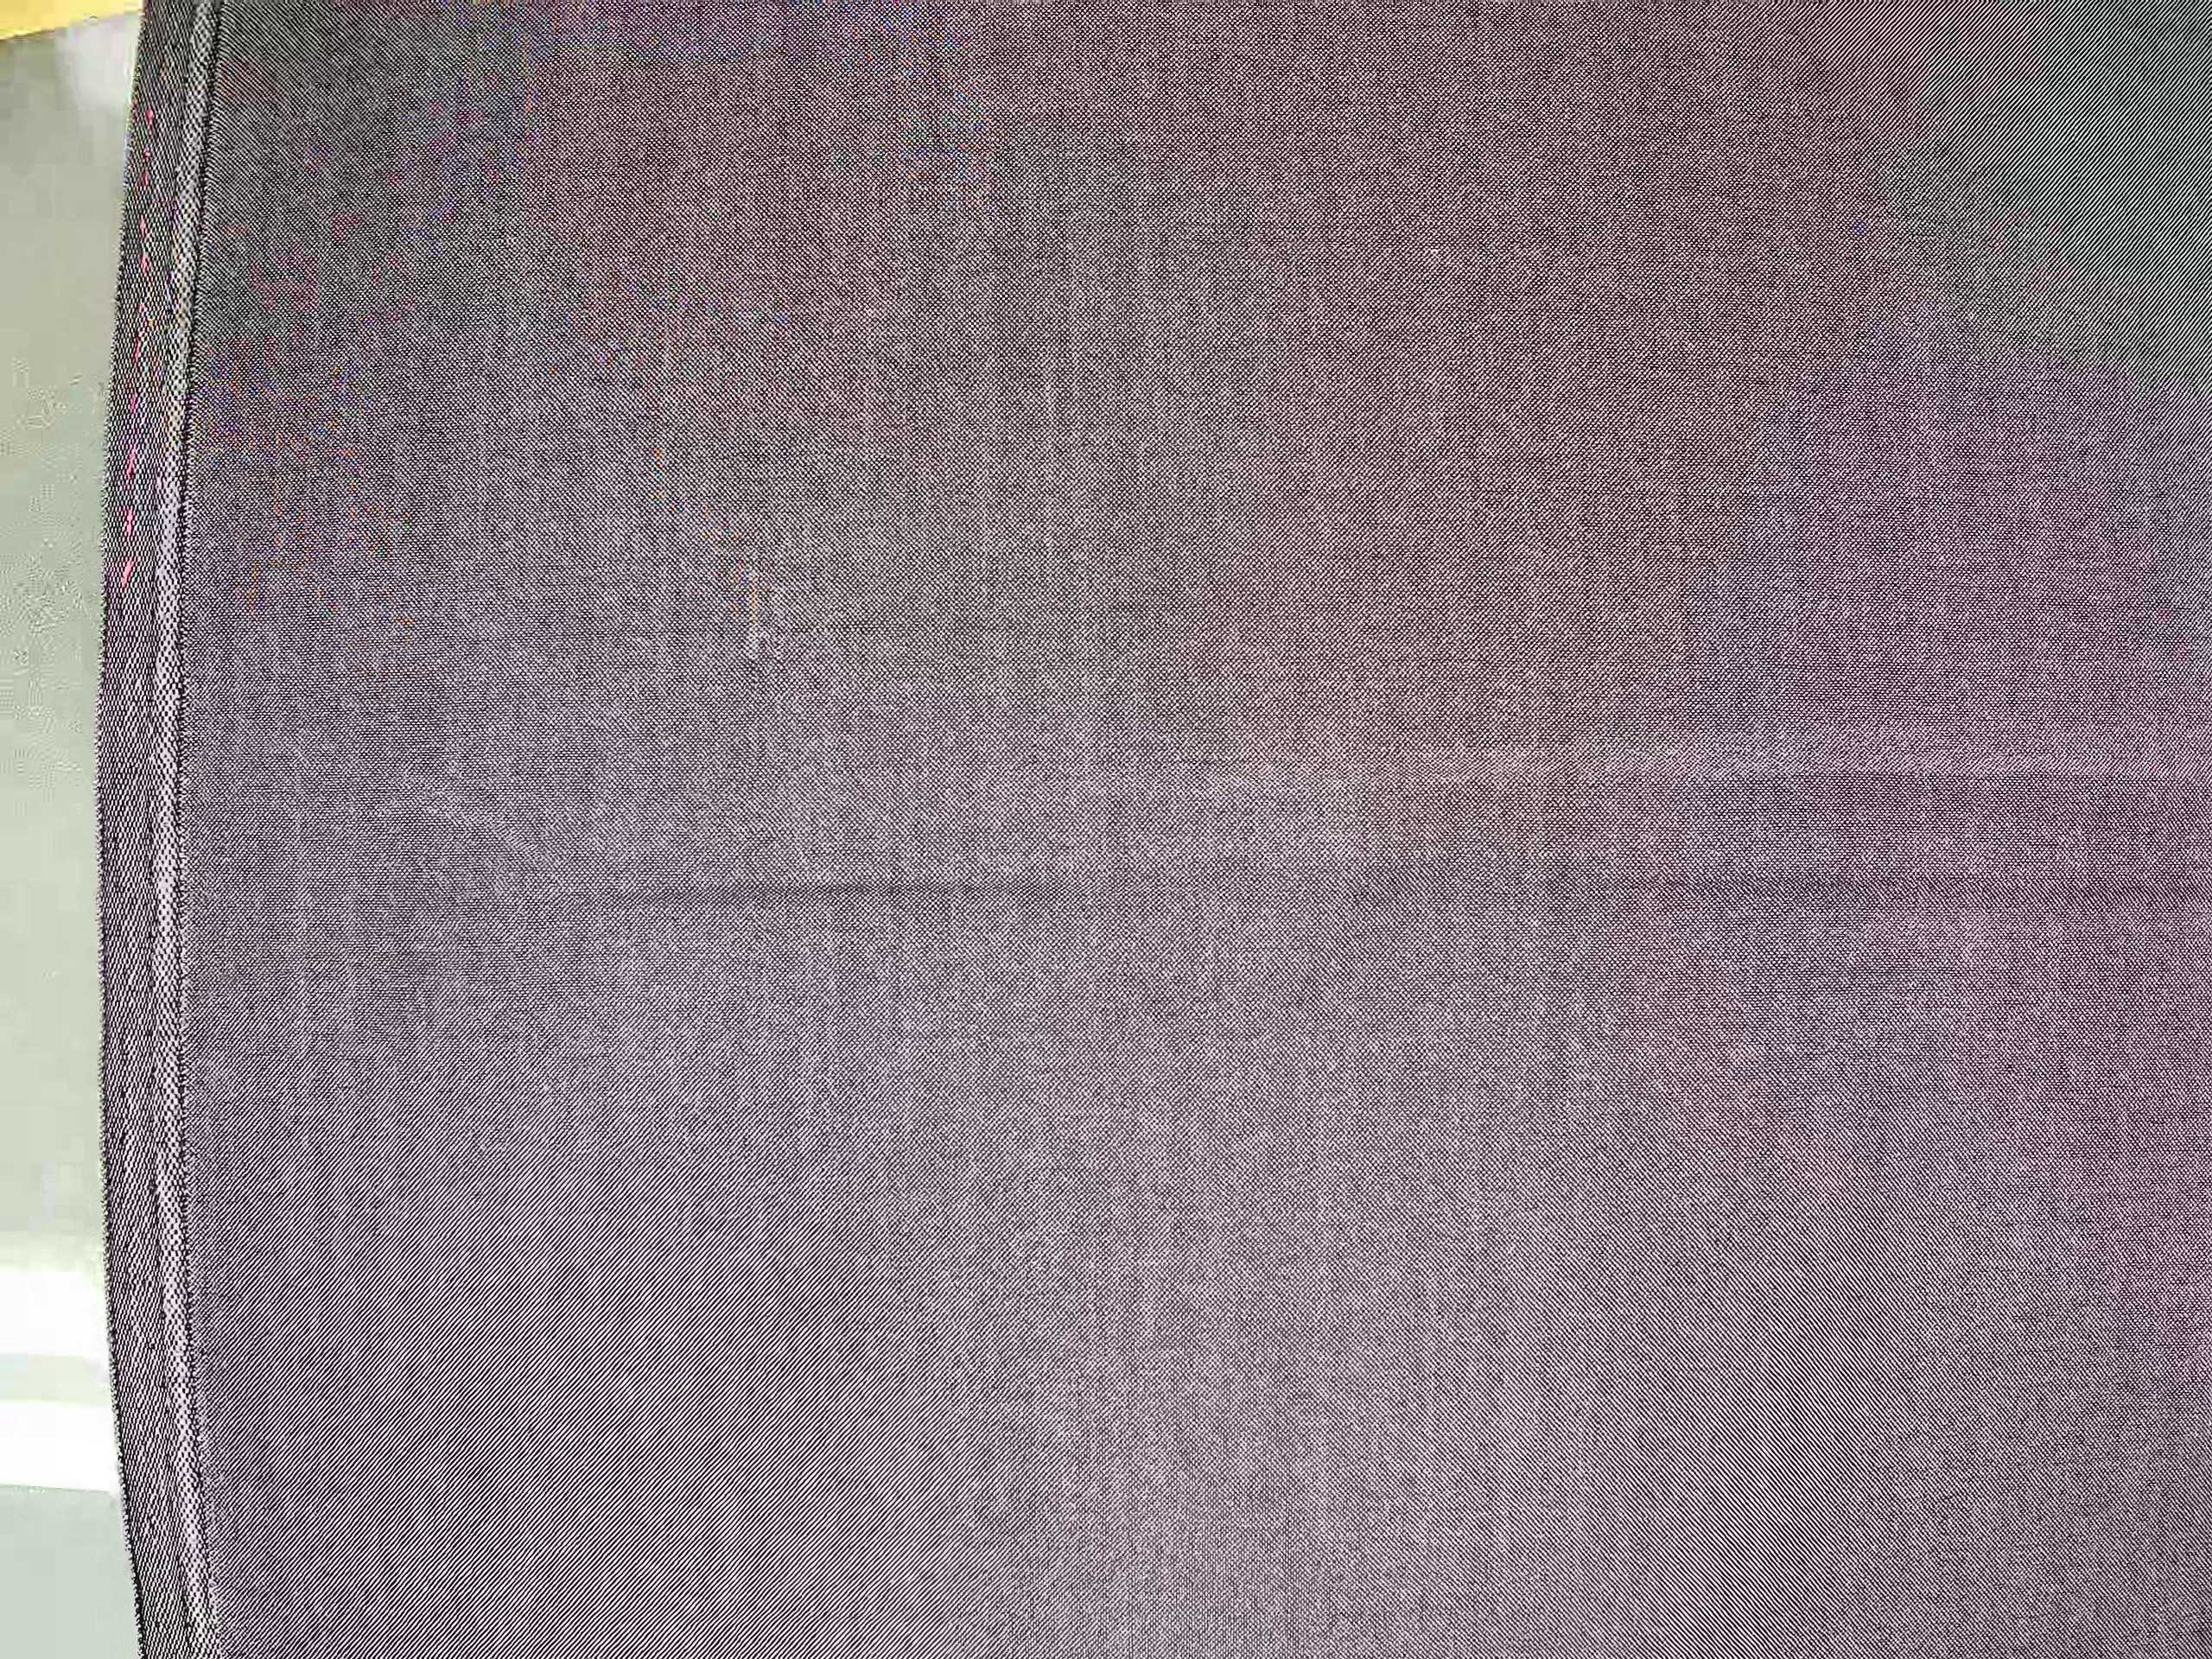hanging-warp: (732, 537, 775, 782)
